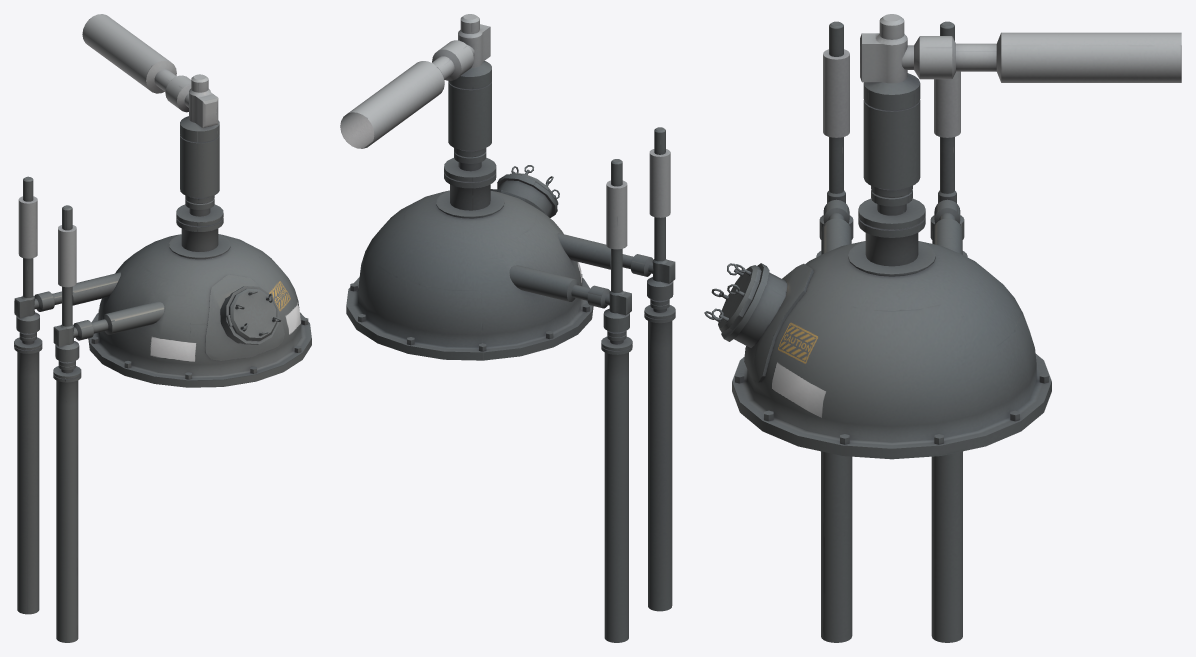
The model's file is Chem_reactorA.fbx.
3 views of the same model, side by side, from view 1: azimuth 30°, elevation 25°; view 2: azimuth 150°, elevation 25°; view 3: azimuth 270°, elevation 25° (orthographic). The views are drawn at different scales.
Visible parts, largest first — view 1: ReactorA, Case; view 2: ReactorA; view 3: ReactorA, Case.
Part boxes in pixels (bbox=[...]): ReactorA: bbox=[14, 14, 311, 642]; Case: bbox=[226, 288, 281, 340]; ReactorA: bbox=[340, 14, 675, 642]; ReactorA: bbox=[721, 14, 1181, 642]; Case: bbox=[704, 263, 761, 334].
Size of the model in its own units: 4.45 by 8.27 by 4.94.
1 material, 1 textured.
